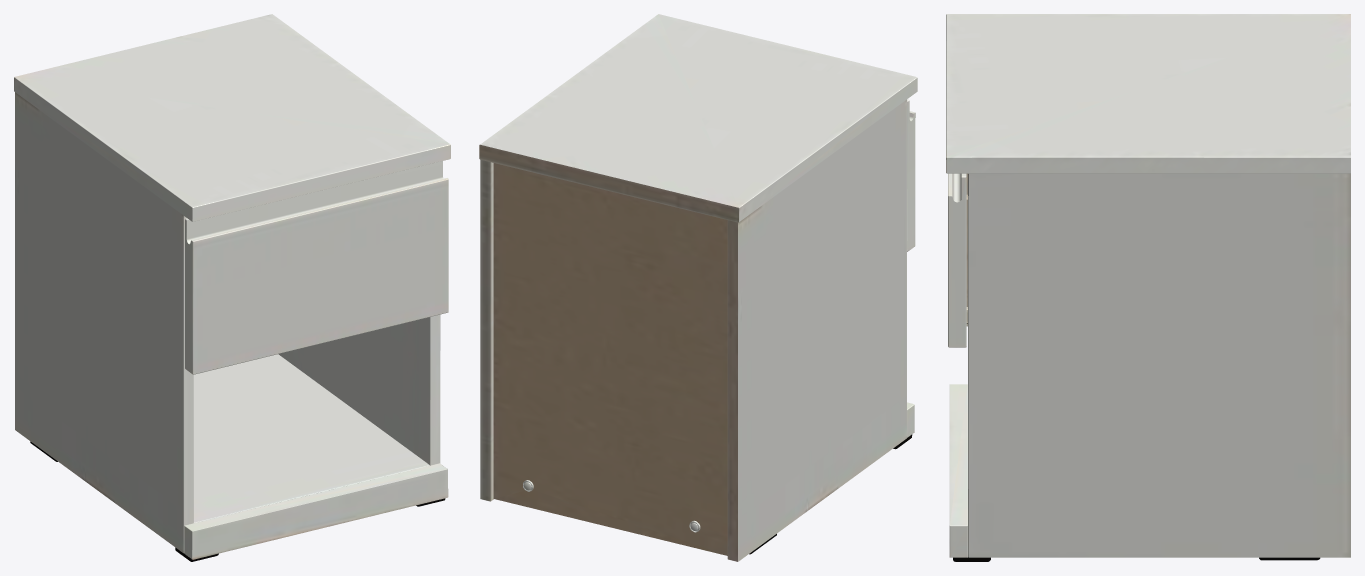
3 renders of one model, left to right at view 1: azimuth 30°, elevation 25°; view 2: azimuth 150°, elevation 25°; view 3: azimuth 270°, elevation 25°, orthographic. The views are drawn at different scales.
Parts seen in each view (by area): view 1: ASY_ART_30561155_S01_NV01, ASY_LPT01_30561155_S01_NV01; view 2: ASY_ART_30561155_S01_NV01, ASY_LPT01_30561155_S01_NV01; view 3: ASY_ART_30561155_S01_NV01, ASY_LPT01_30561155_S01_NV01.
Boxes of the visible parts, bbox=[...] form: ASY_ART_30561155_S01_NV01: bbox=[14, 14, 450, 561]; ASY_LPT01_30561155_S01_NV01: bbox=[185, 161, 448, 374]; ASY_ART_30561155_S01_NV01: bbox=[479, 14, 917, 561]; ASY_LPT01_30561155_S01_NV01: bbox=[907, 99, 915, 251]; ASY_ART_30561155_S01_NV01: bbox=[946, 14, 1350, 561]; ASY_LPT01_30561155_S01_NV01: bbox=[948, 173, 967, 347].
Size of the model in its own units: 0.399 by 0.527 by 0.476.
2 materials, 2 textured.
